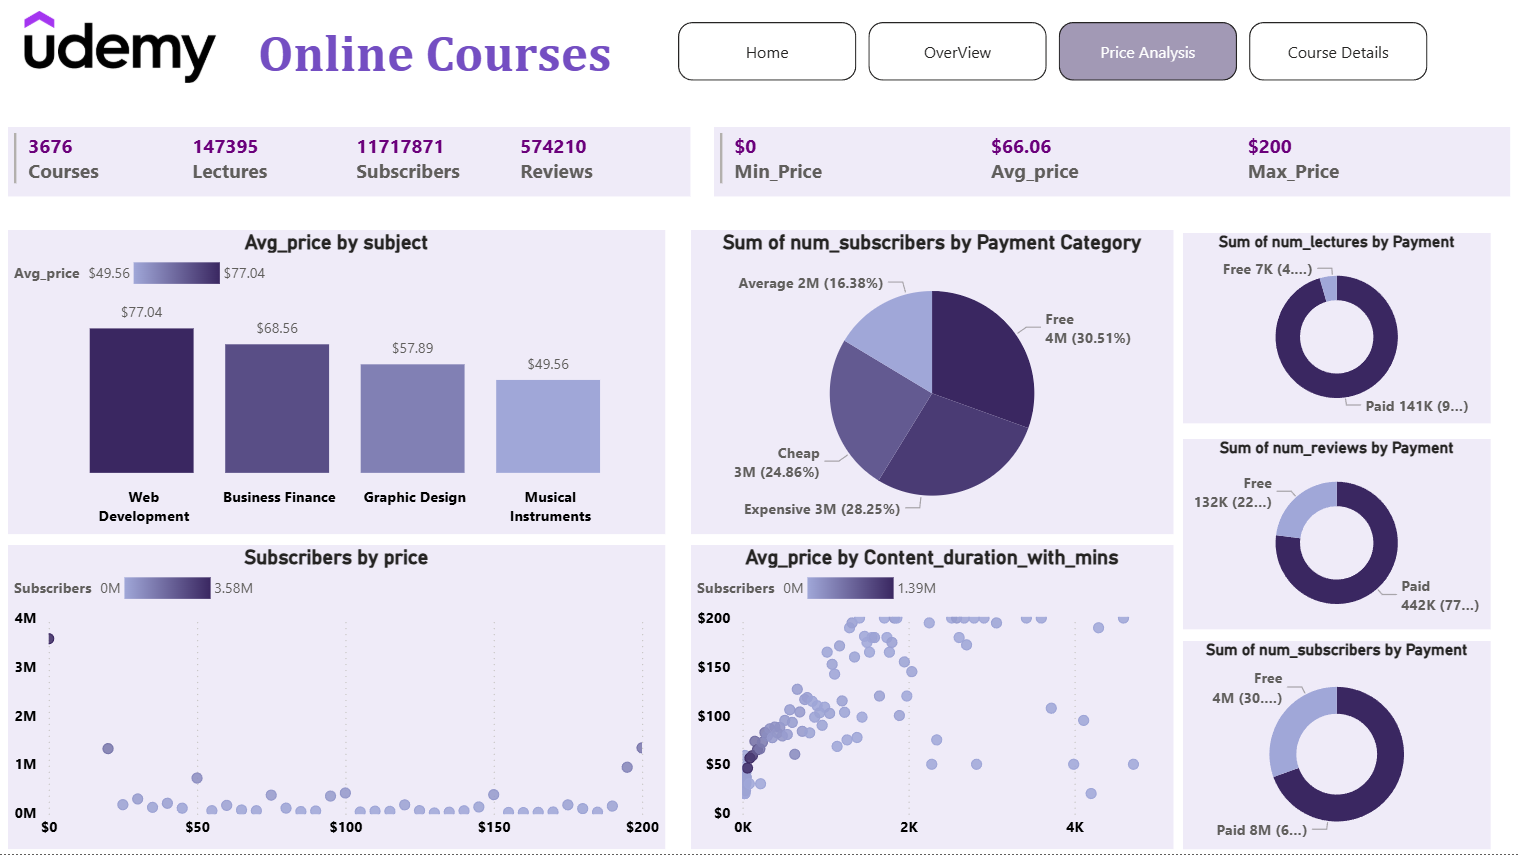

The page's visual inventory and layout, read from the dashboard file:
{"tool":"powerbi","page":{"name":"Price Analysis","canvas":[1280,720],"ordinal":2},"visuals":[{"type":"multiRowCard","fields":{"Values":["udemy.Courses","udemy.Lectures","udemy.Subscribers","udemy.Reviews"]},"box":[14.6,112.8,570,58.4],"z":0},{"type":"multiRowCard","fields":{"Values":["udemy.Min_Price","udemy.Avg_price","udemy.Max_Price"]},"box":[604,112.8,665.3,58.4],"z":1000},{"type":"textbox","box":[217.9,20.4,1062.1,60.3],"z":2000},{"type":"image","box":[0,10.7,217.9,70],"z":3000},{"type":"columnChart","fields":{"Y":["udemy.Avg_price"],"Category":["udemy.subject"]},"box":[14.6,198.4,548.6,253.9],"z":4000},{"type":"scatterChart","fields":{"Y":["udemy.Subscribers"],"X":["udemy.price"]},"box":[14.6,462,548.6,253.9],"z":5000},{"type":"scatterChart","fields":{"Y":["udemy.Avg_price"],"X":["udemy.Content_duration_with_mins"]},"box":[584.6,462,402.7,253.9],"z":6000},{"type":"pieChart","fields":{"Category":["udemy.Payment Category"],"Y":["Sum(udemy.num_subscribers)"]},"box":[584.6,198.4,402.7,253.9],"z":7000},{"type":"donutChart","fields":{"Category":["udemy.Payment"],"Y":["Sum(udemy.num_lectures)"]},"box":[996,201.3,256.8,158.5],"z":8000},{"type":"donutChart","fields":{"Category":["udemy.Payment"],"Y":["Sum(udemy.num_subscribers)"]},"box":[996,541.8,256.8,174.1],"z":9000},{"type":"donutChart","fields":{"Category":["udemy.Payment"],"Y":["Sum(udemy.num_reviews)"]},"box":[996,373.5,256.8,158.5],"z":10000},{"type":"pageNavigator","box":[573.9,25.3,629.3,49.6],"z":11000}]}

Visuals, with their boxes in screenshot pixels (x1, y1, x2, y2), scaled from the page's 1280x720 canvas onto the 1520x855 screenshot:
multiRowCard - udemy.Courses x udemy.Lectures: locate(17, 134, 694, 203)
multiRowCard - udemy.Min_Price x udemy.Avg_price: locate(717, 134, 1507, 203)
textbox: locate(259, 24, 1519, 96)
image: locate(0, 13, 259, 96)
columnChart - udemy.Avg_price x udemy.subject: locate(17, 236, 669, 537)
scatterChart - udemy.Subscribers x udemy.price: locate(17, 549, 669, 850)
scatterChart - udemy.Avg_price x udemy.Content_duration_with_mins: locate(694, 549, 1172, 850)
pieChart - udemy.Payment Category x Sum(udemy.num_subscribers): locate(694, 236, 1172, 537)
donutChart - udemy.Payment x Sum(udemy.num_lectures): locate(1183, 239, 1488, 427)
donutChart - udemy.Payment x Sum(udemy.num_subscribers): locate(1183, 643, 1488, 850)
donutChart - udemy.Payment x Sum(udemy.num_reviews): locate(1183, 444, 1488, 632)
pageNavigator: locate(682, 30, 1429, 89)
